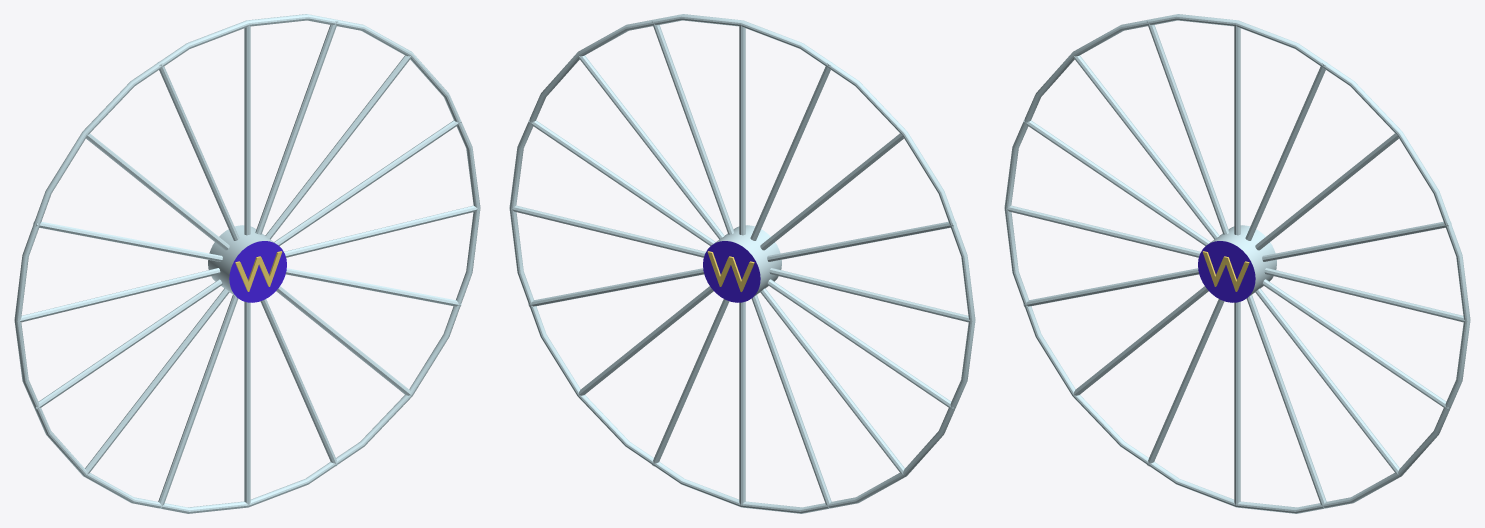
The model's file is ferris_wheel_wheel.glb.
3 views of the same model, side by side, from view 1: azimuth 30°, elevation 25°; view 2: azimuth 150°, elevation 25°; view 3: azimuth 330°, elevation 25° (orthographic).
Visible parts, largest first — view 1: ferriswheel; view 2: ferriswheel; view 3: ferriswheel.
Part boxes in pixels (x1,y1,x2,y2): ferriswheel: (14,14,480,513); ferriswheel: (509,14,975,513); ferriswheel: (1004,14,1470,513).
Size of the model in its own units: 40.5 by 40.5 by 3.57.
1 material, 1 textured.
